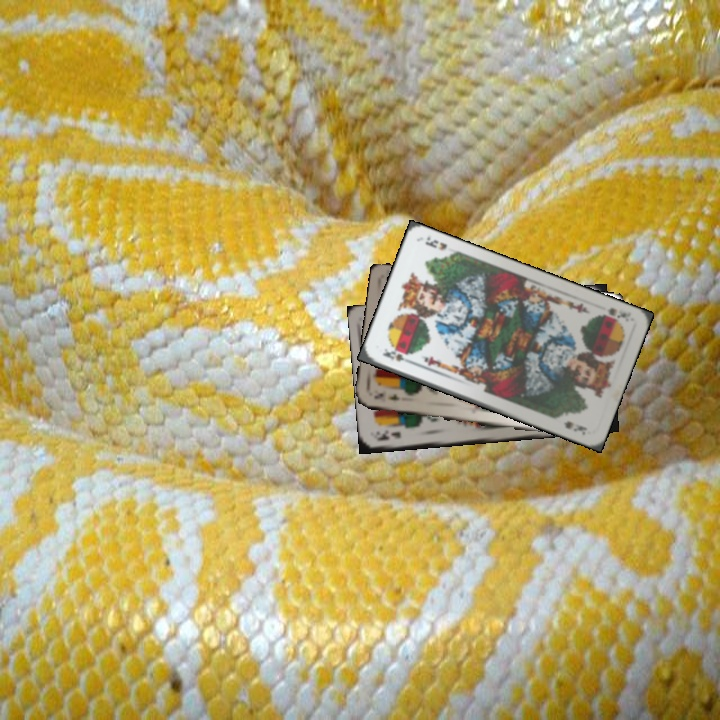EK: (373, 427, 403, 443), (370, 389, 403, 403)
SK: (594, 303, 634, 326), (379, 344, 416, 367)
